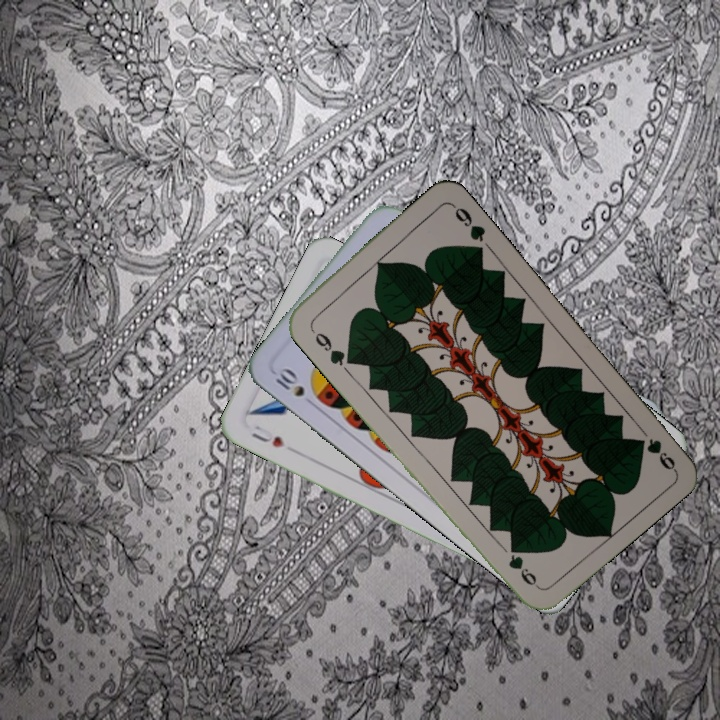G9: (306, 322, 353, 369), (633, 434, 678, 473)
HU: (246, 420, 288, 450)
S10: (271, 362, 323, 410)
